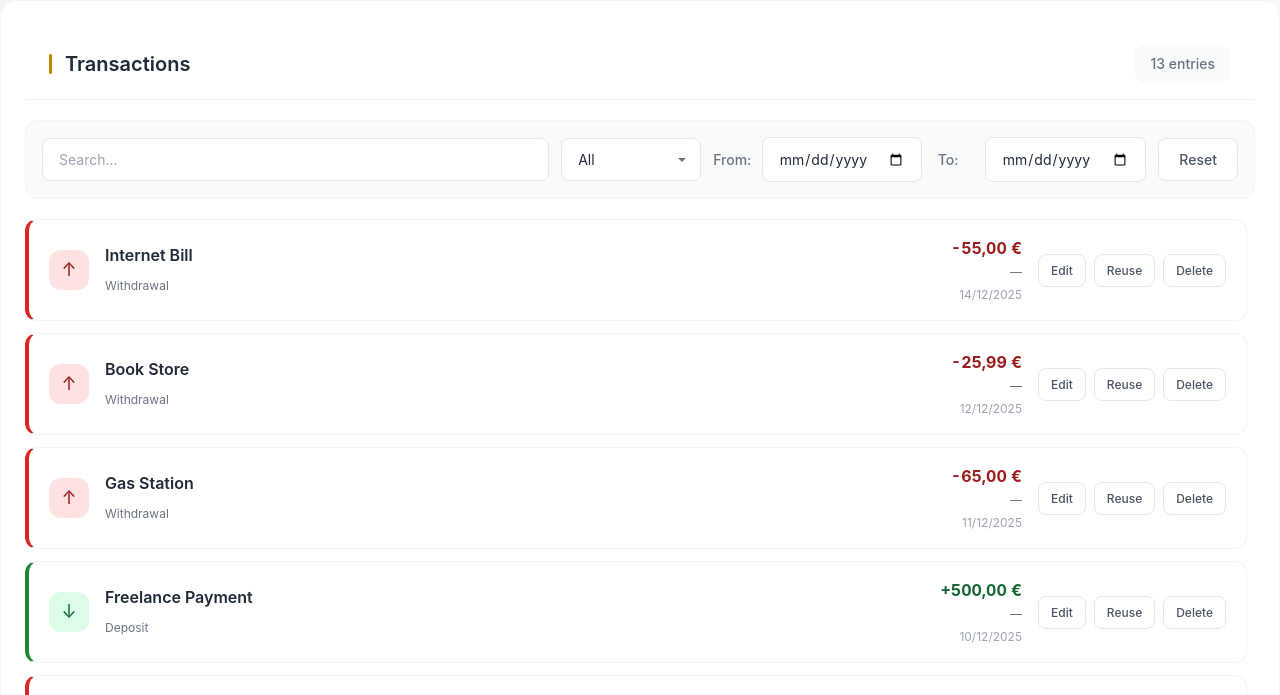
it: TransactionList › search filter › should show empty state when no matches
The width and height of the screenshot is (1280, 695).
Type "xyznonexistent123" into the field with placeholder "Search...". click: (296, 160)
box: left=42, top=138, right=549, bottom=181
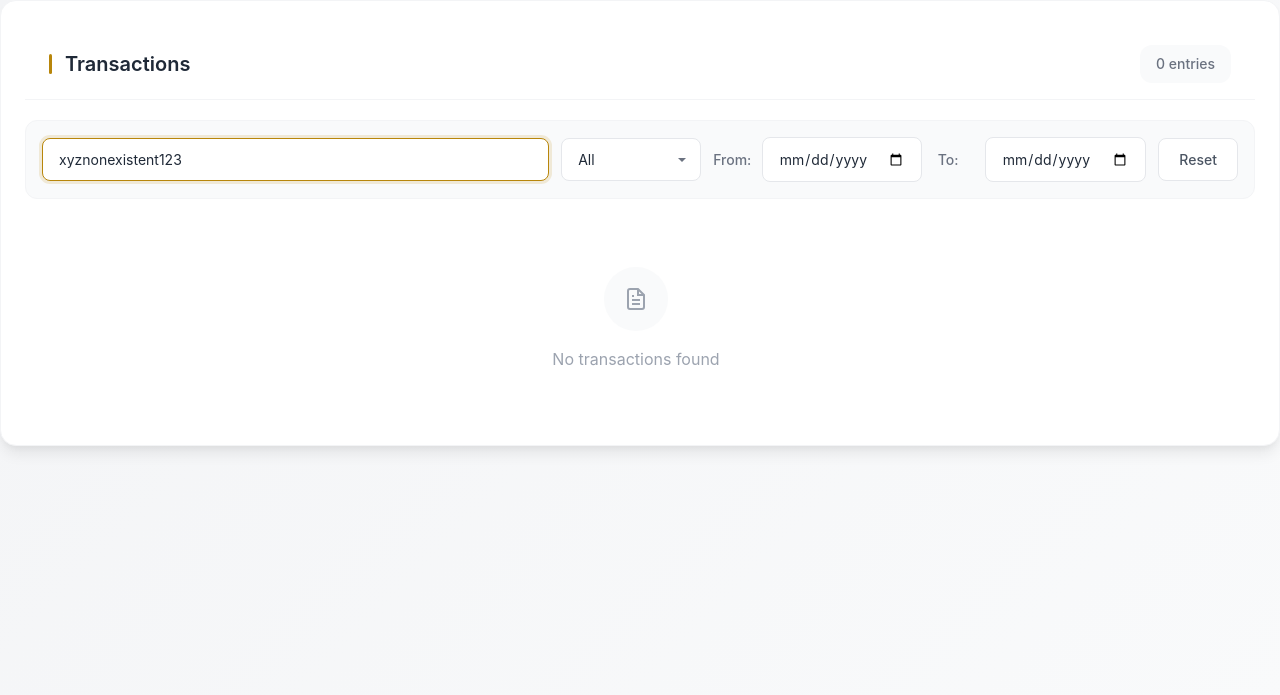
Expected: the text "No transactions found" is shown, left=552, top=349, right=720, bottom=369
